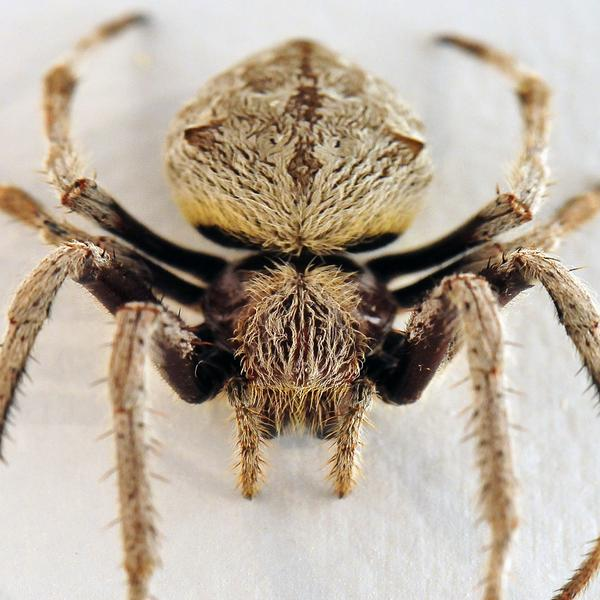Garden Orb Weaver Spider: (9, 30, 597, 584)
